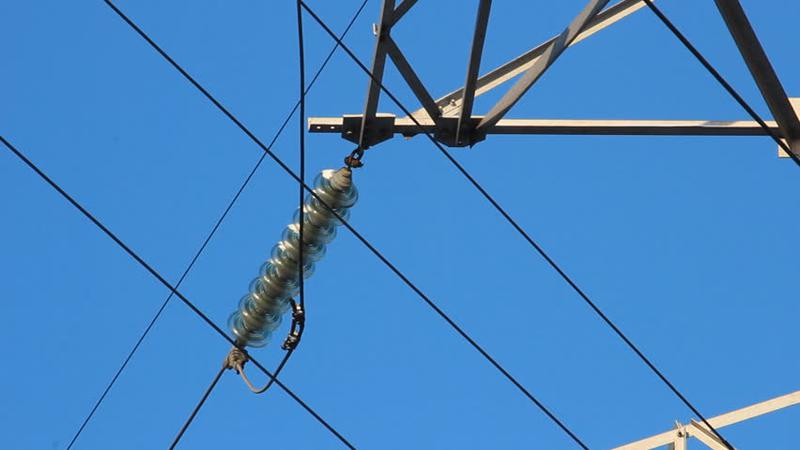isolator: (226, 168, 358, 348)
